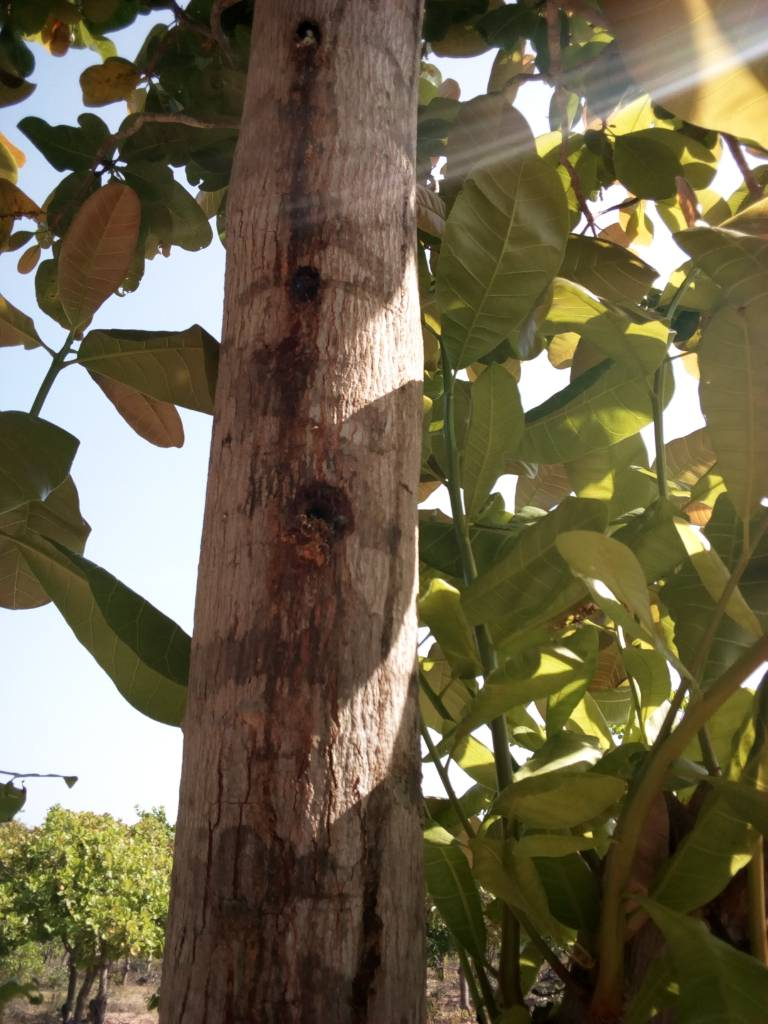Apate terebrans: (255, 456, 389, 572)
